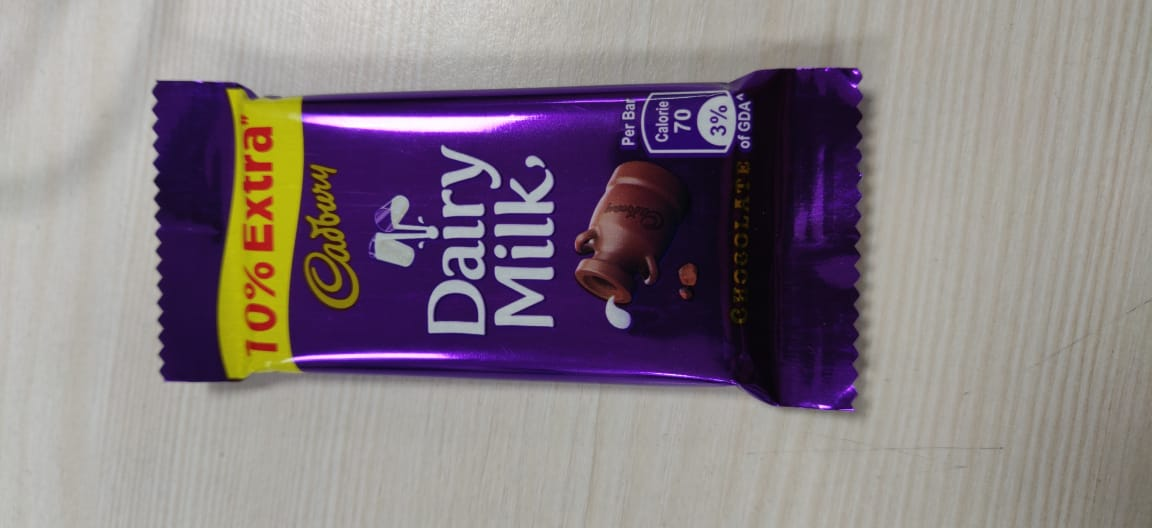dairy milk: (127, 62, 896, 413)
